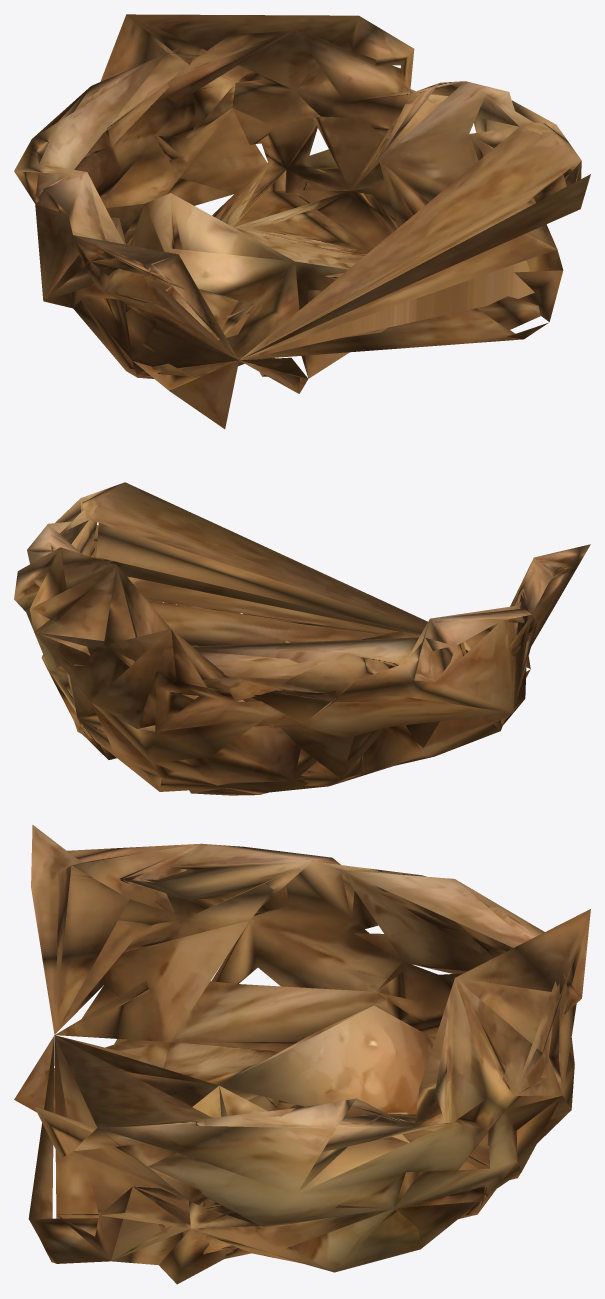
3 renders of one model, top to bottom at view 1: azimuth 30°, elevation 25°; view 2: azimuth 150°, elevation 25°; view 3: azimuth 270°, elevation 25°, orthographic. The views are drawn at different scales.
Parts seen in each view (by area): view 1: tripo_node_37cc9462-3fed-41fa-96f5-6c823fb193ef; view 2: tripo_node_37cc9462-3fed-41fa-96f5-6c823fb193ef; view 3: tripo_node_37cc9462-3fed-41fa-96f5-6c823fb193ef.
Boxes of the visible parts, x1,y1,x2,y2 form: tripo_node_37cc9462-3fed-41fa-96f5-6c823fb193ef: (14, 14, 590, 428); tripo_node_37cc9462-3fed-41fa-96f5-6c823fb193ef: (14, 482, 590, 795); tripo_node_37cc9462-3fed-41fa-96f5-6c823fb193ef: (14, 825, 590, 1284).
Bounding box in the file's own units: 1 × 0.444 × 0.8572.
Materials: 1 (1 with a texture image).
